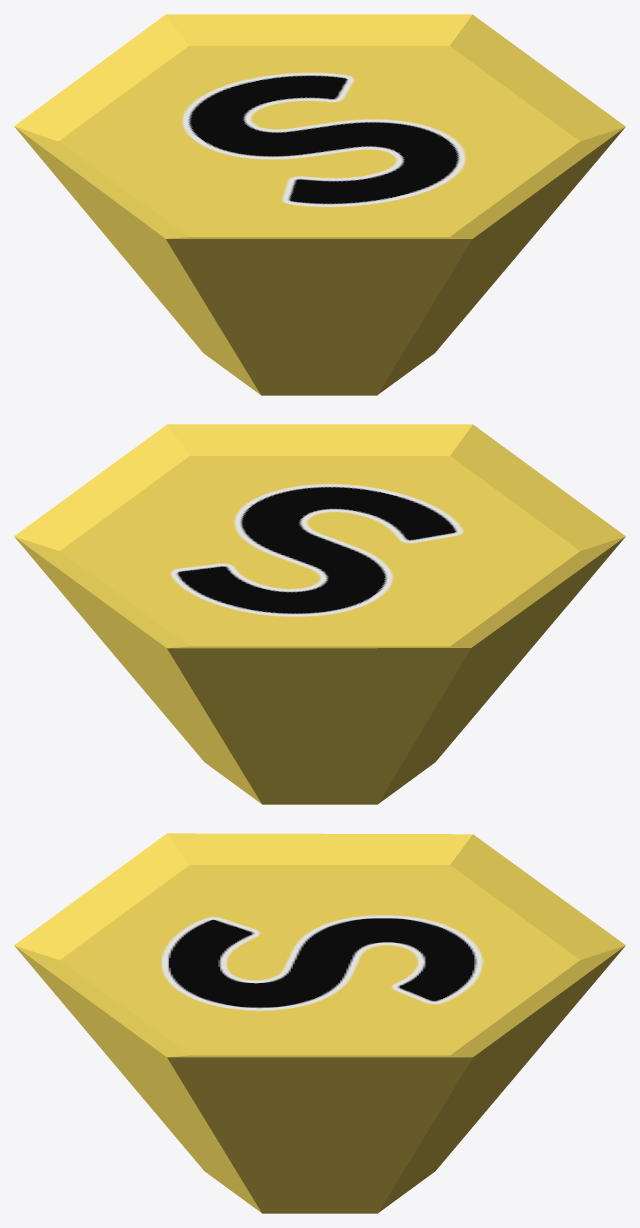
The model's file is String.fbx.
The picture shows the model from 3 angles, top to bottom: view 1: azimuth 30°, elevation 25°; view 2: azimuth 150°, elevation 25°; view 3: azimuth 270°, elevation 25°; orthographic projection.
Parts seen in each view (by area): view 1: String Tile; view 2: String Tile; view 3: String Tile.
Part boxes in pixels (x1,y1,x2,y2): String Tile: (14, 14, 625, 395); String Tile: (14, 424, 625, 804); String Tile: (14, 833, 625, 1213).
Size of the model in its own units: 425 by 200 by 491.
